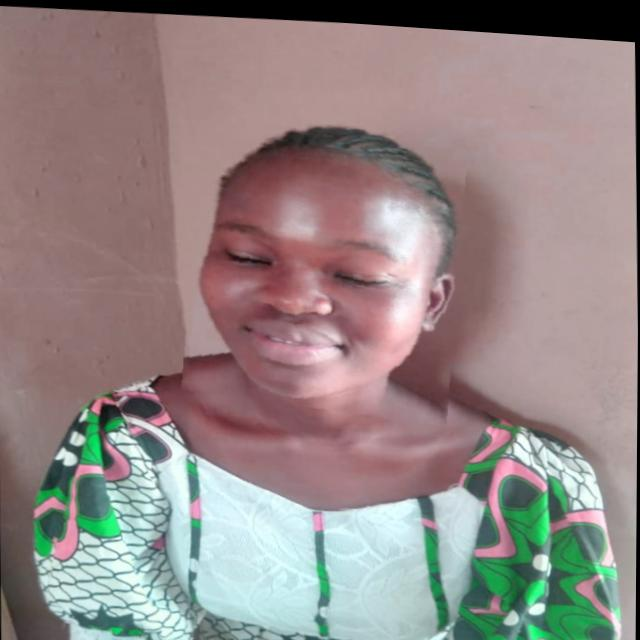happy: (183, 127, 466, 420)
